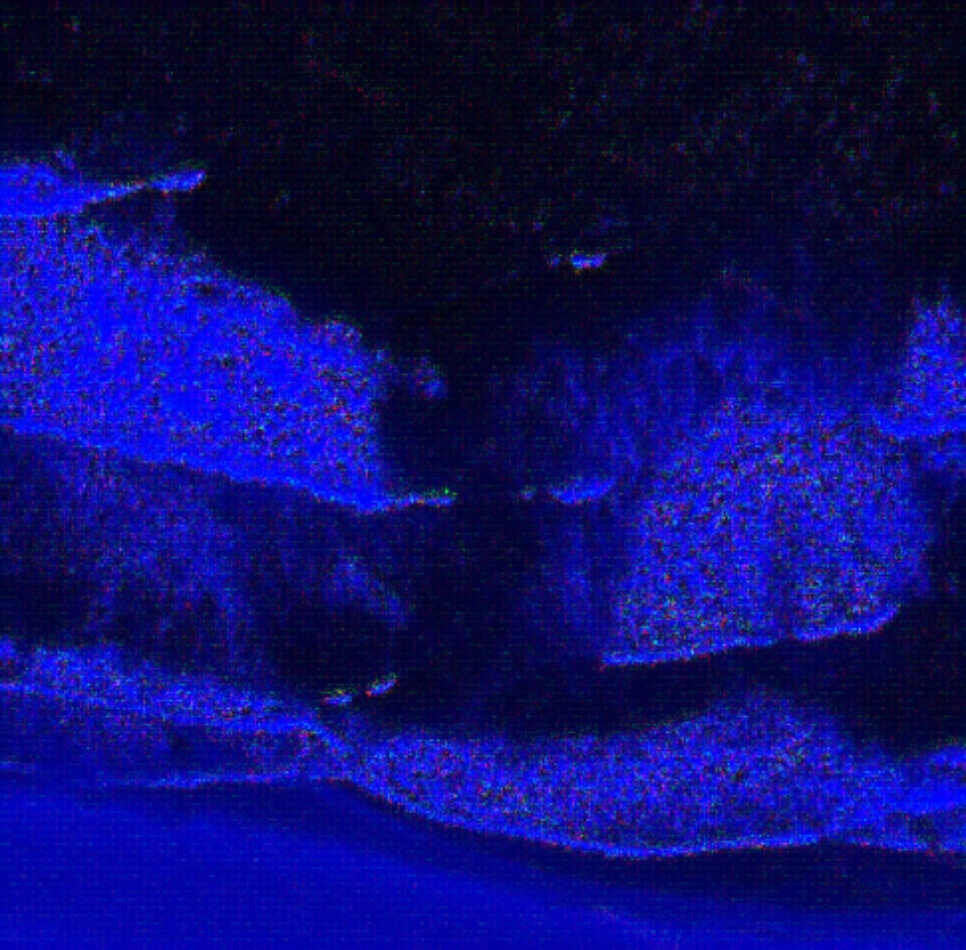rip_current: (298, 246, 661, 693)
